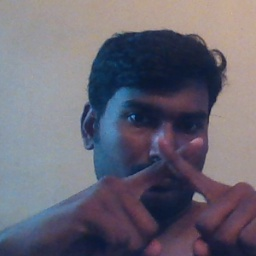X: (119, 128, 238, 241)
